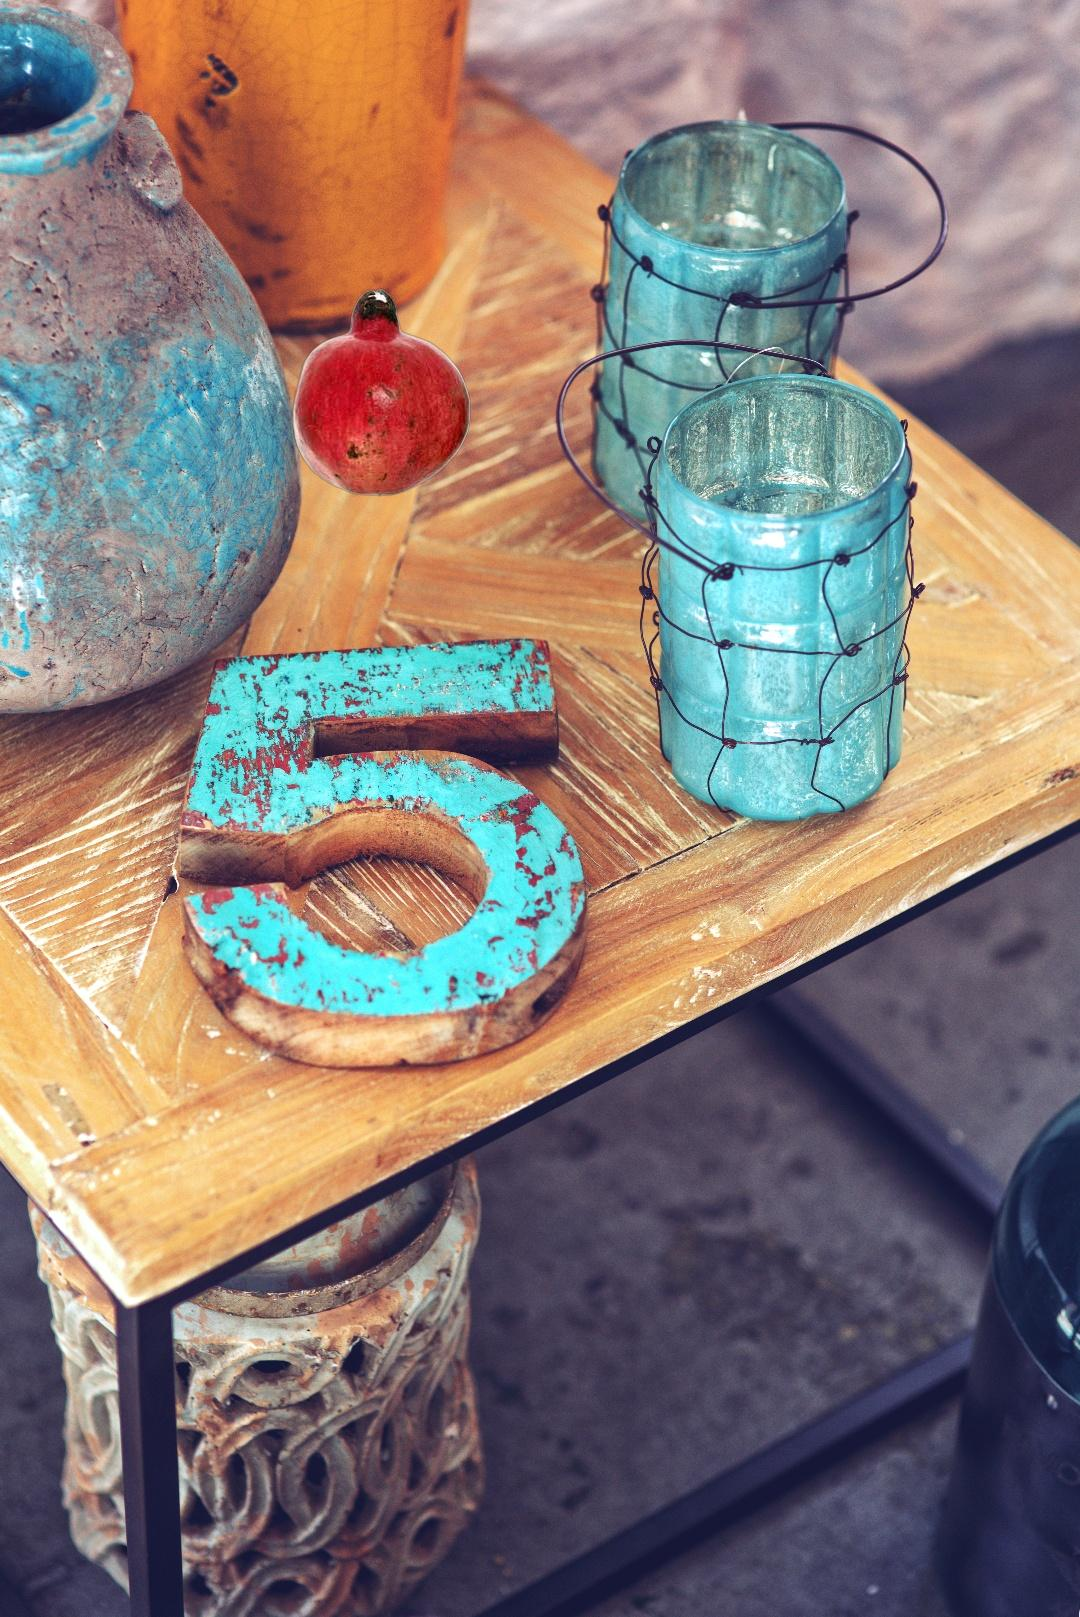biological: (278, 280, 472, 499)
